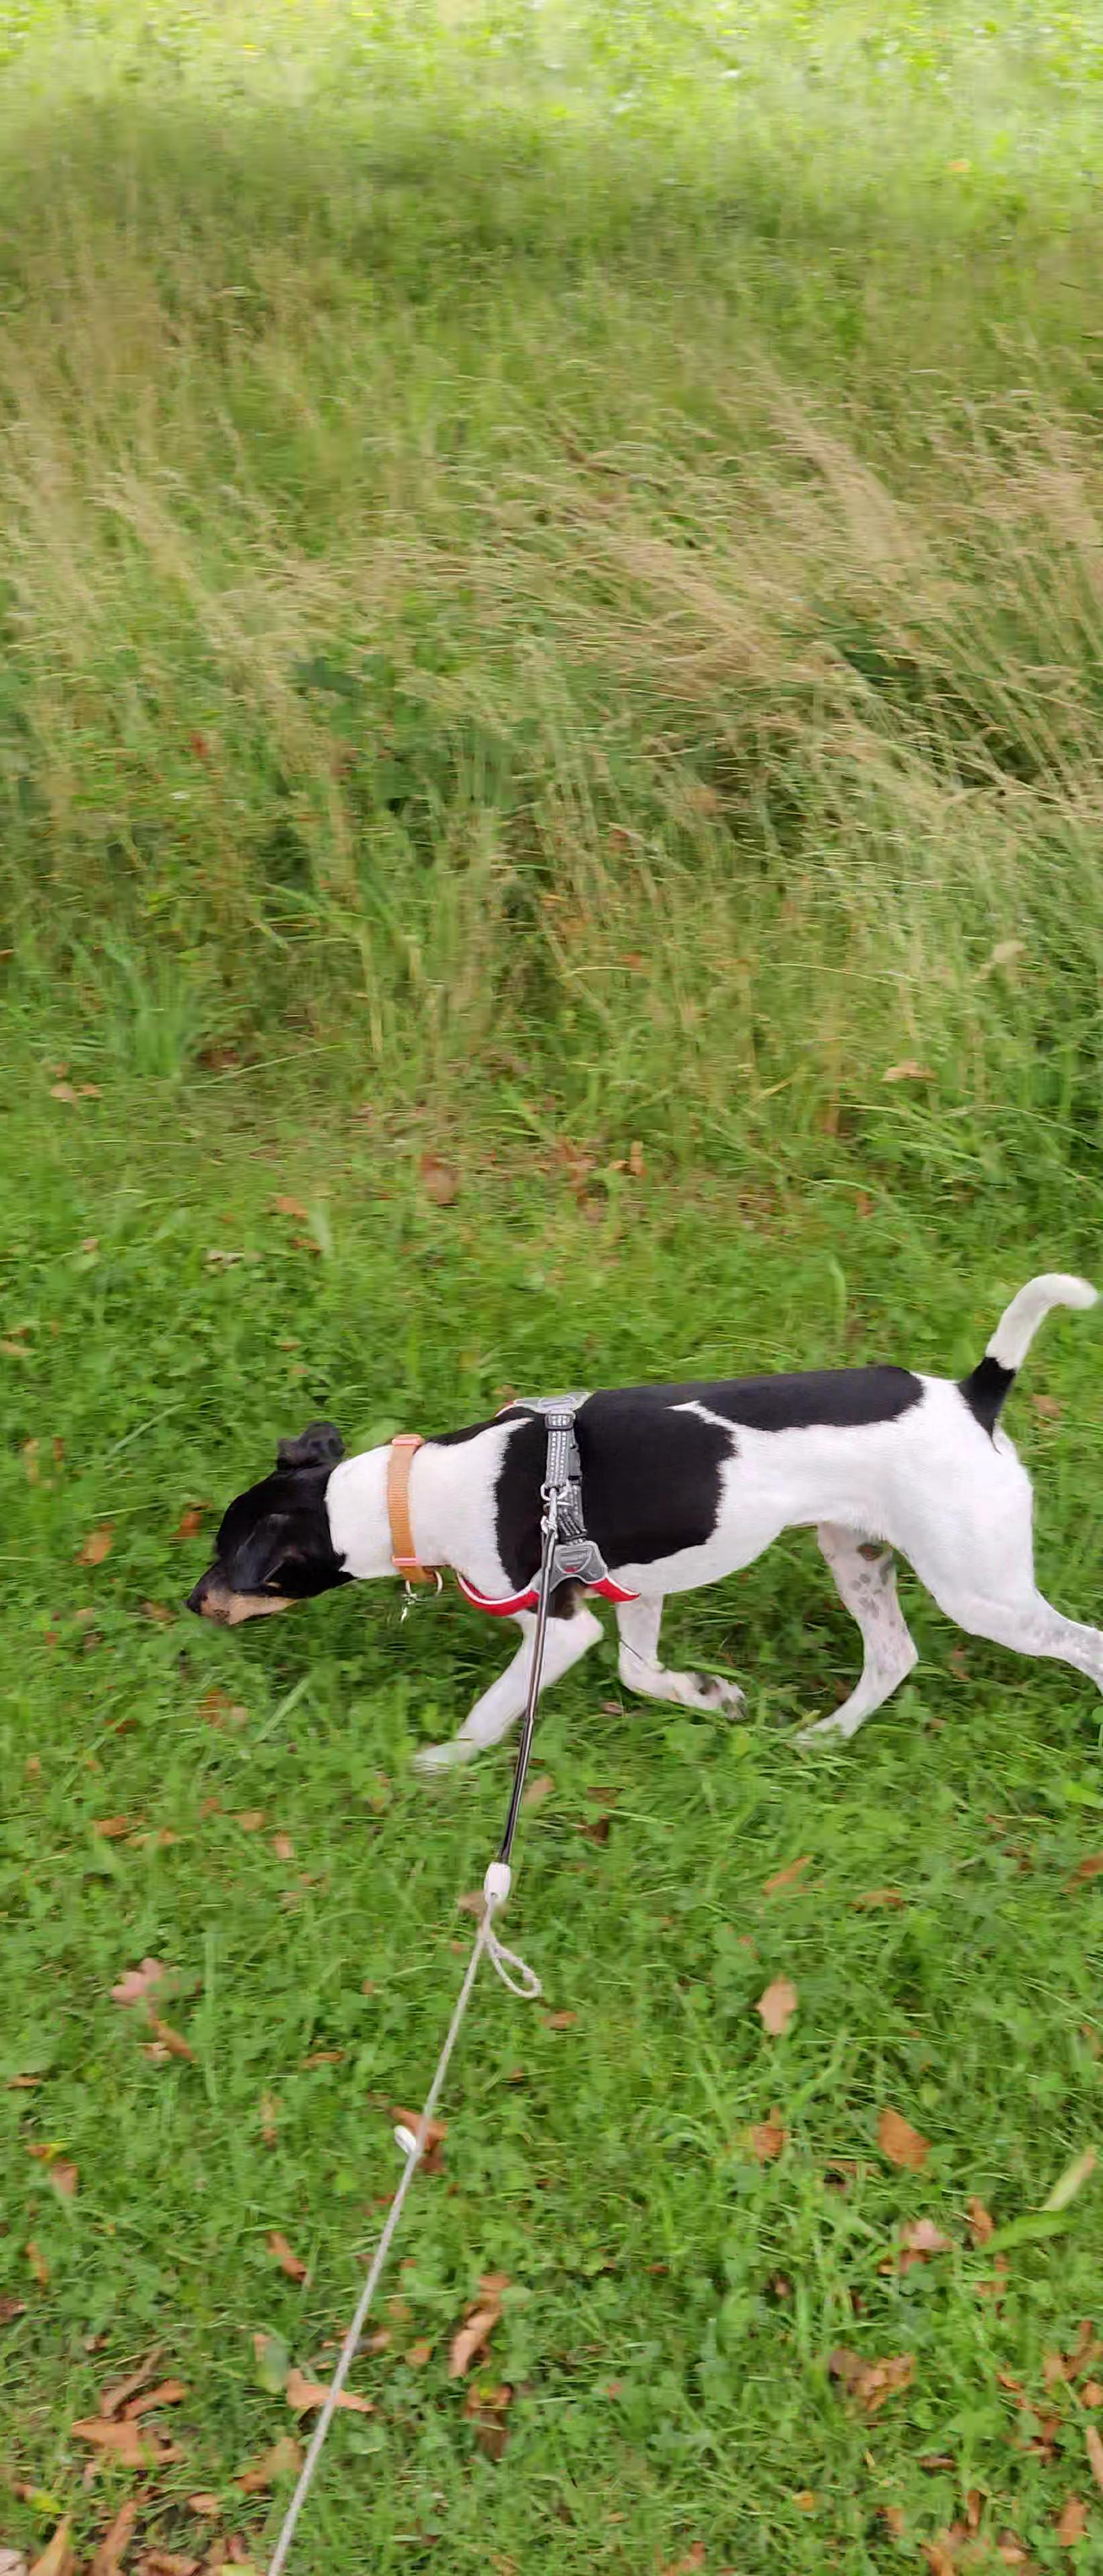Dog: (174, 1260, 1103, 1789)
